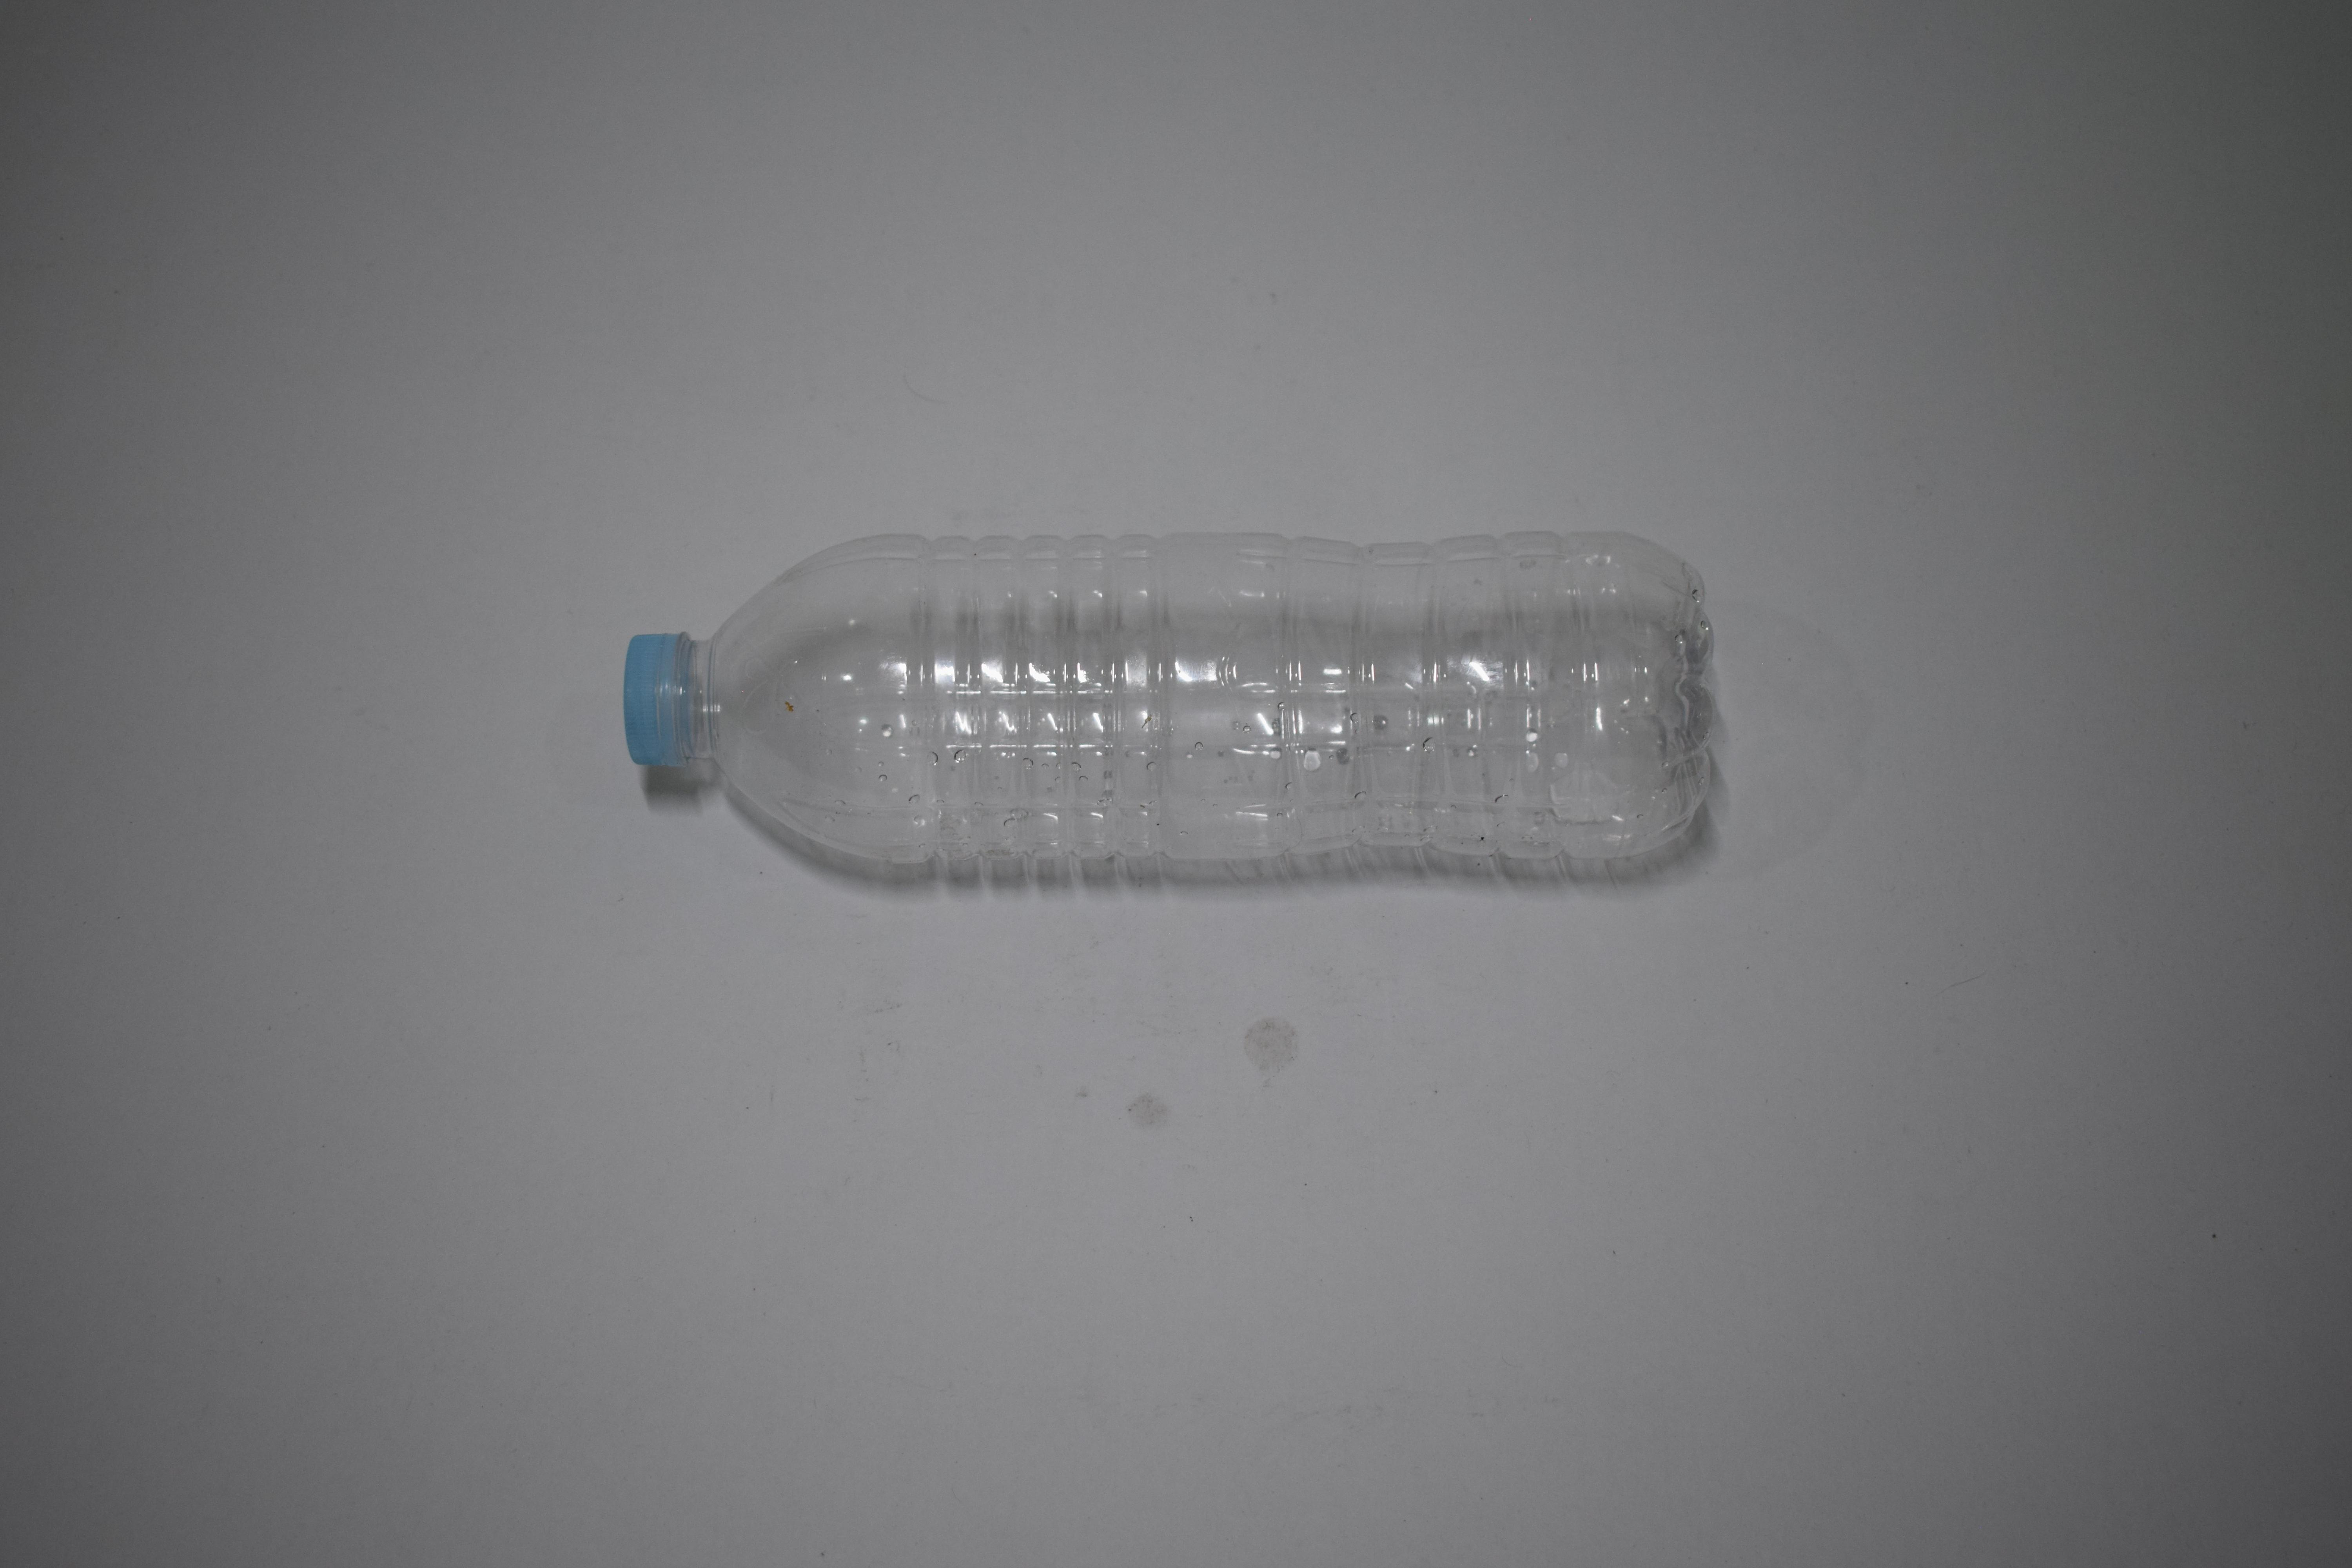bottle: (616, 513, 1720, 889)
